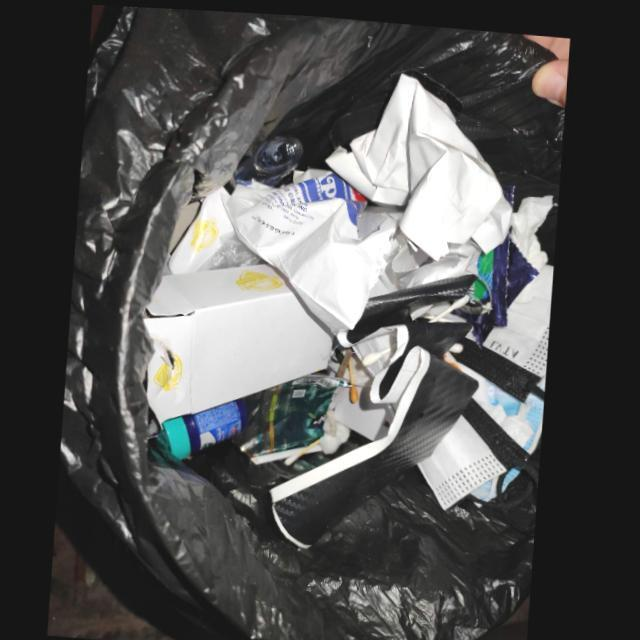cardboard: (144, 262, 333, 420), (167, 191, 266, 270)
paper: (325, 67, 517, 255), (236, 196, 399, 323), (243, 377, 346, 451), (510, 187, 552, 267)
plastic_container: (162, 394, 253, 462)
